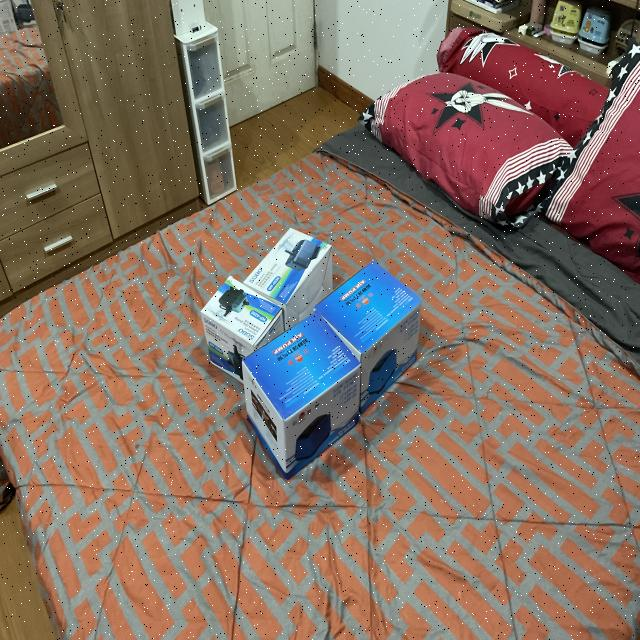SOBO_WP_4200: (234, 200, 340, 326), (199, 259, 281, 379)
YAMANO_LPP_20: (240, 304, 364, 486), (317, 258, 445, 416)
